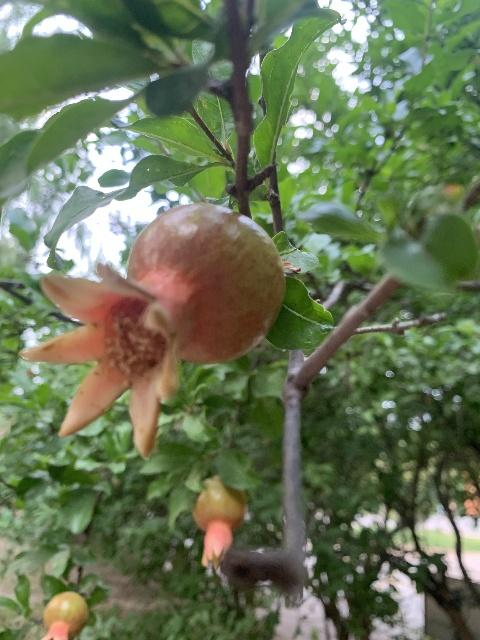early-fruit: (22, 204, 284, 460)
mid-growth: (192, 478, 245, 567), (33, 591, 89, 639)
